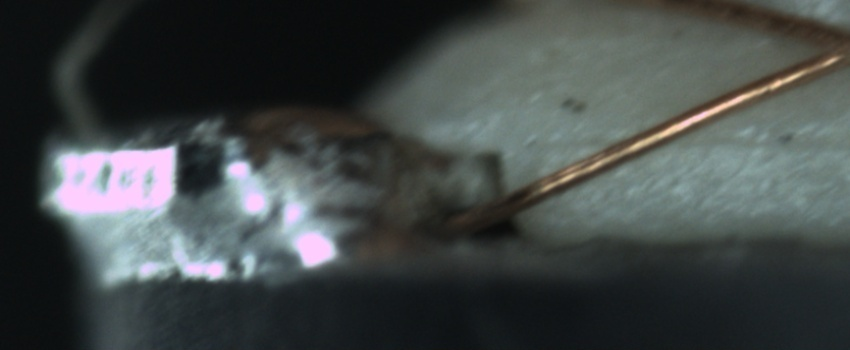CL: (797, 13, 850, 76)
DL: (546, 113, 850, 172)
